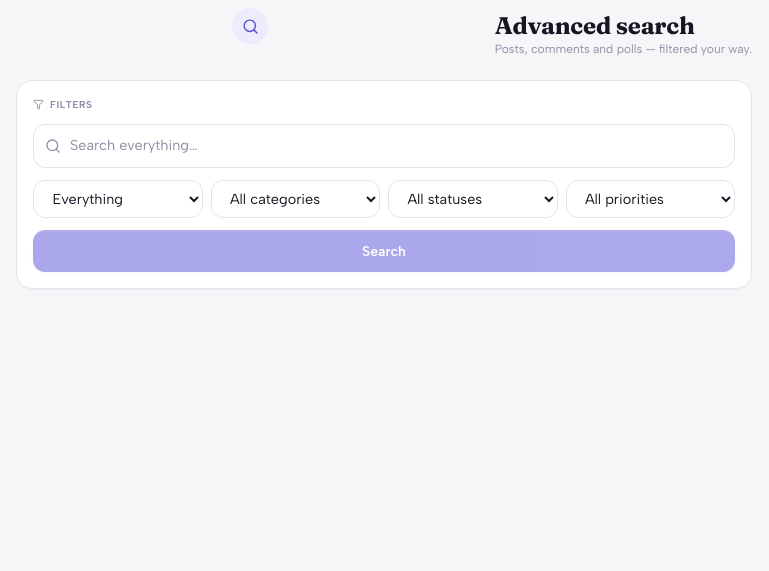
Test: Search — empty and error states › shows an error with a working retry
Type "projector" into the field labelled "Search everything…" at (384, 146), box [33,124,735,168]
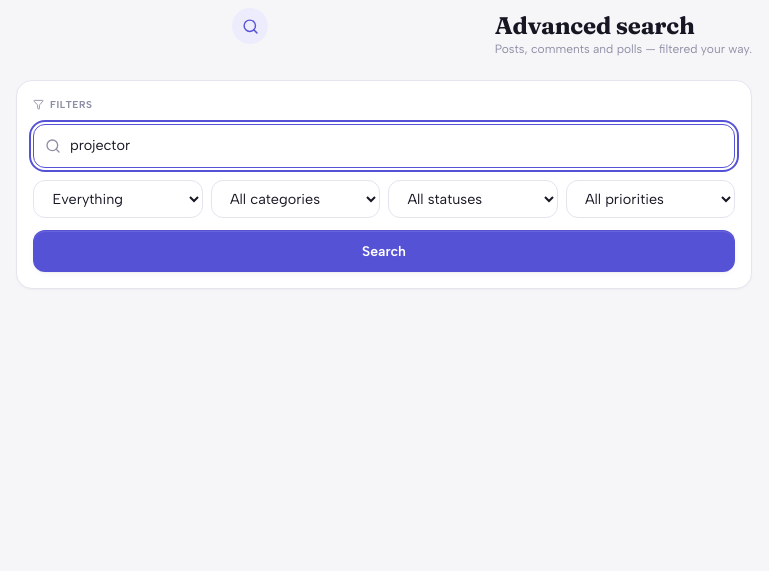
Press Enter
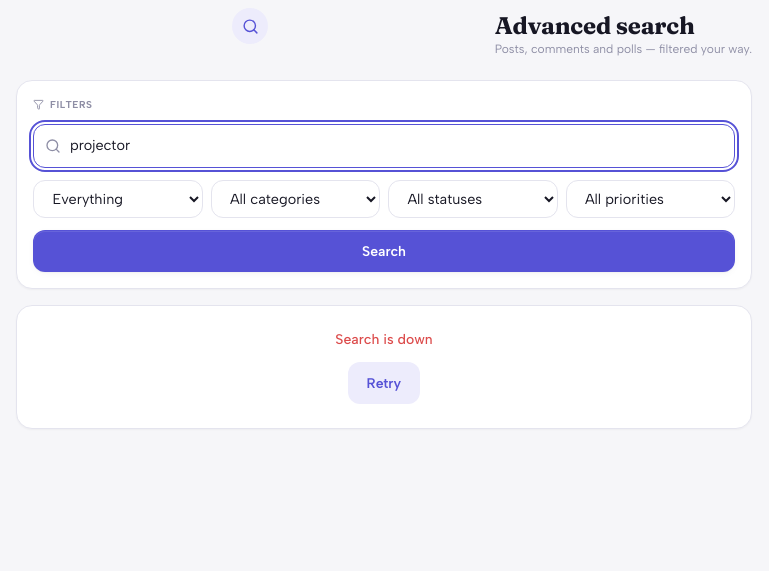
Result: the text "Search is down" is shown at [335,331,433,348]
Result: the button "Retry" is shown
Click the button "Retry" at (384, 383), box [348,362,420,404]
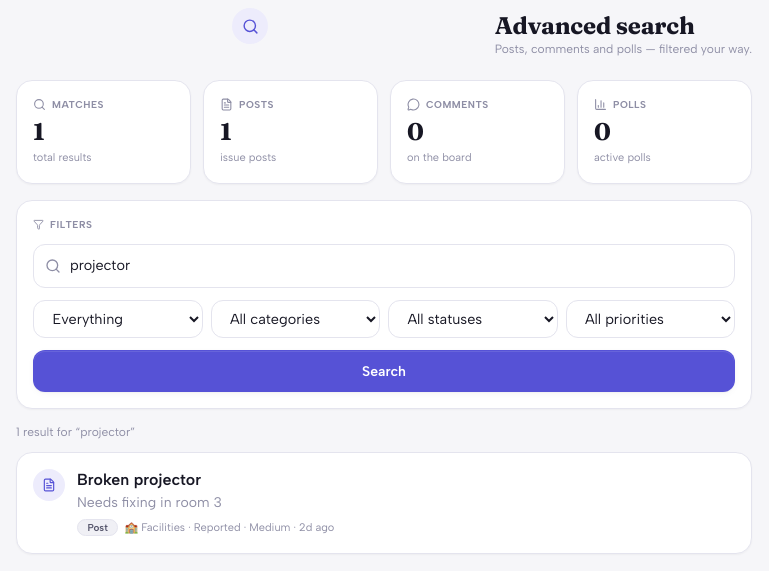
Result: the text "Broken projector" is shown at [77,470,201,489]
